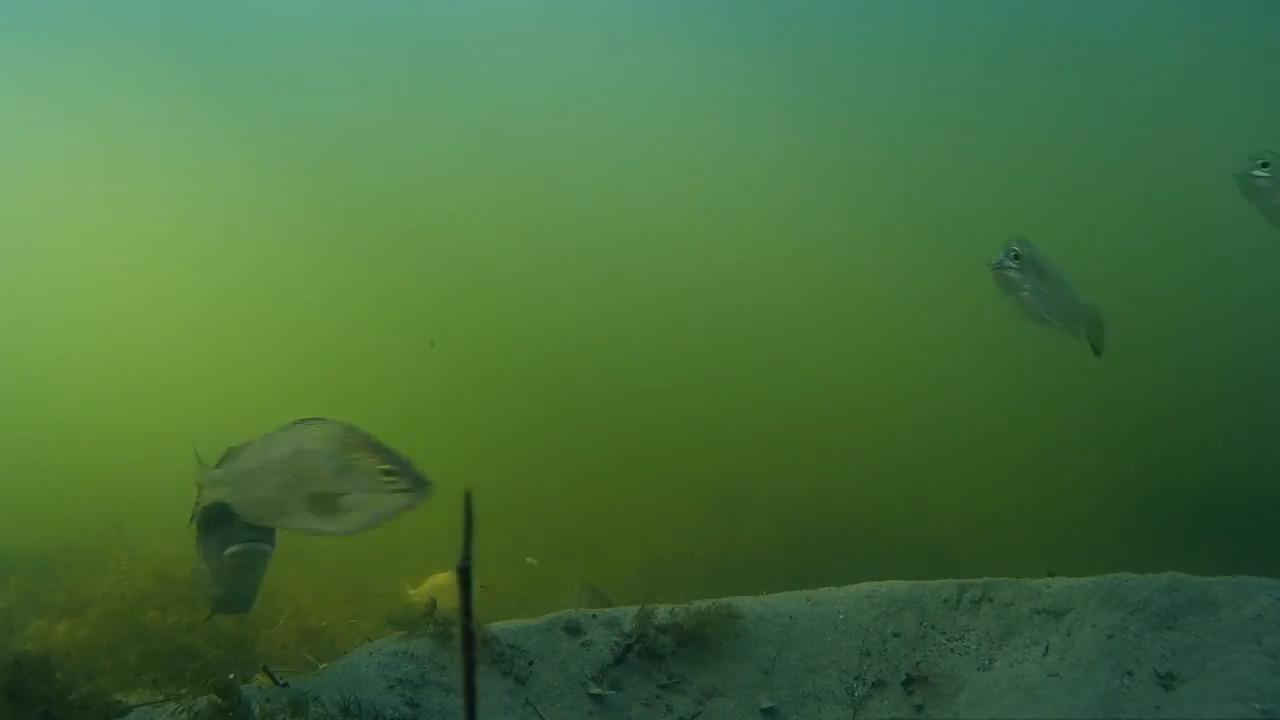Tilapia: (164, 412, 437, 552), (976, 240, 1131, 384), (1209, 126, 1280, 228)
